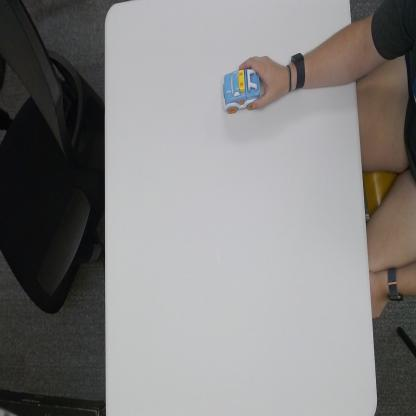Arm: (307, 26, 358, 90)
Car: (221, 67, 263, 117)
Hand: (239, 52, 290, 114)
